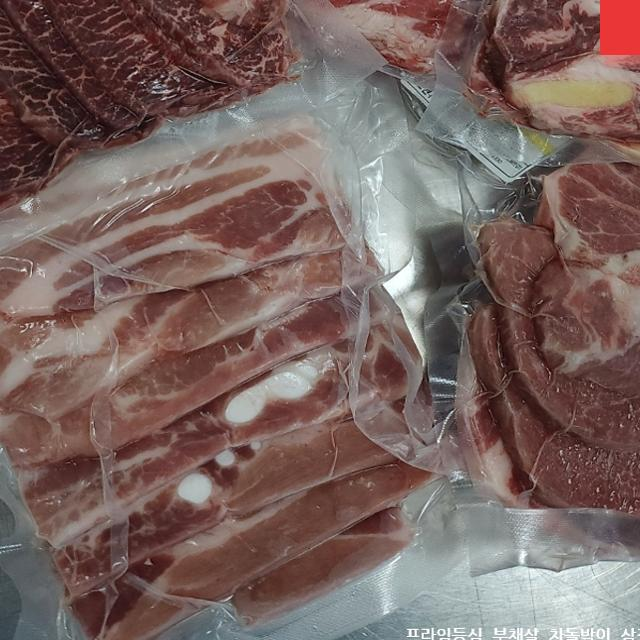beef: (0, 148, 433, 543), (509, 117, 640, 540), (0, 0, 251, 165), (232, 0, 493, 62)
